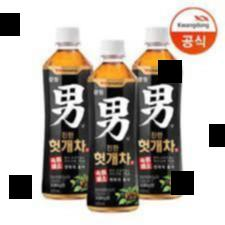heotgaecha: (87, 37, 140, 212), (41, 25, 93, 201), (132, 26, 184, 200)
